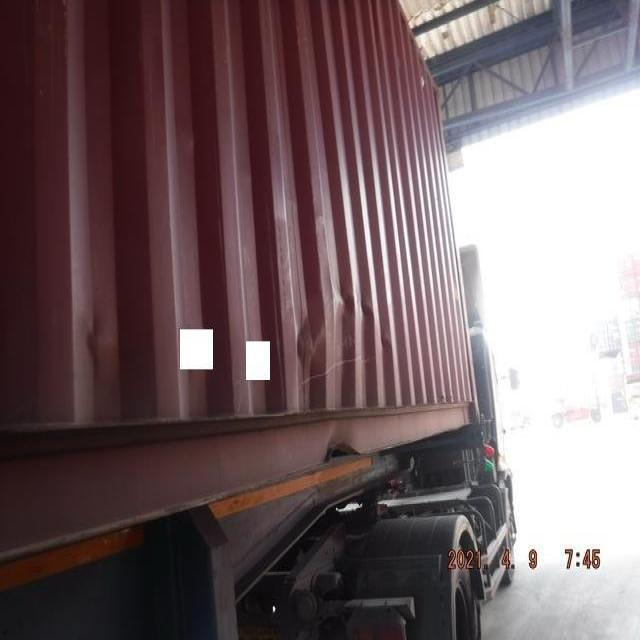dent: (279, 272, 387, 378), (70, 316, 125, 376)
